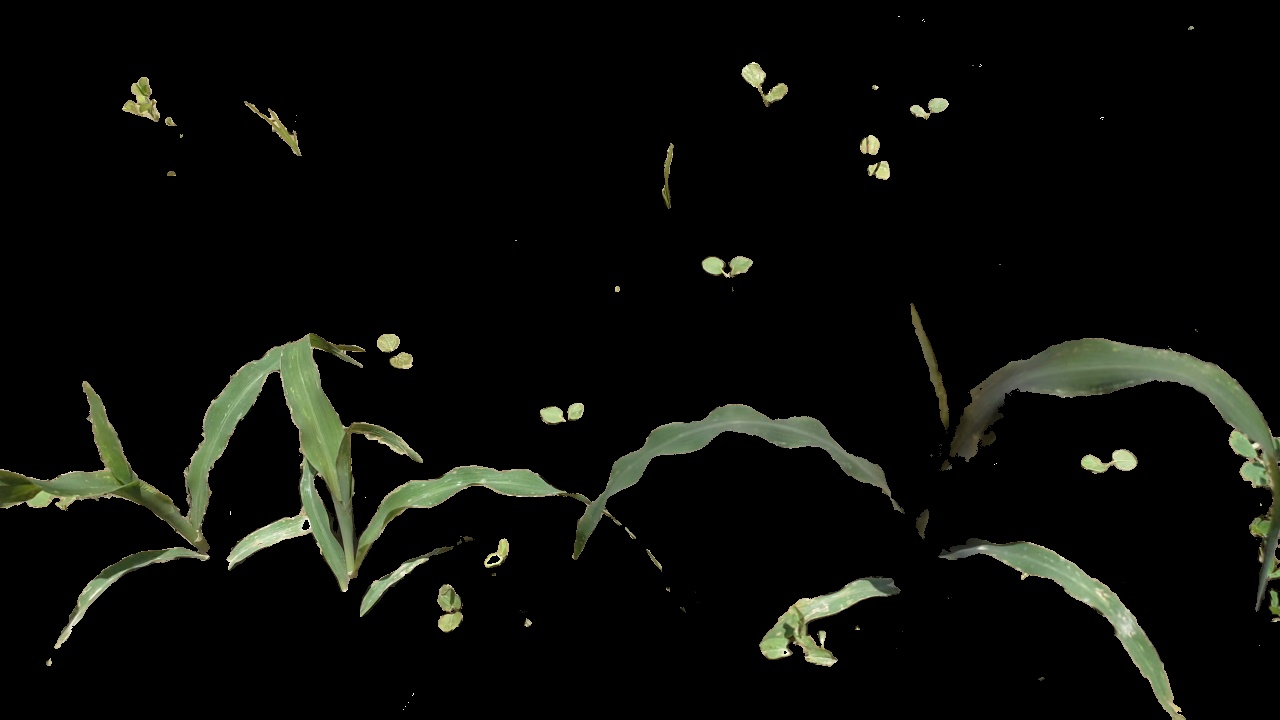crop: (572, 303, 1280, 720), (1, 339, 243, 604), (267, 334, 478, 594)
weed: (730, 50, 788, 108), (372, 319, 421, 379), (688, 246, 763, 285), (1076, 446, 1149, 484), (847, 130, 895, 182), (525, 395, 588, 427), (909, 85, 946, 124), (431, 582, 459, 629), (486, 540, 511, 574)
